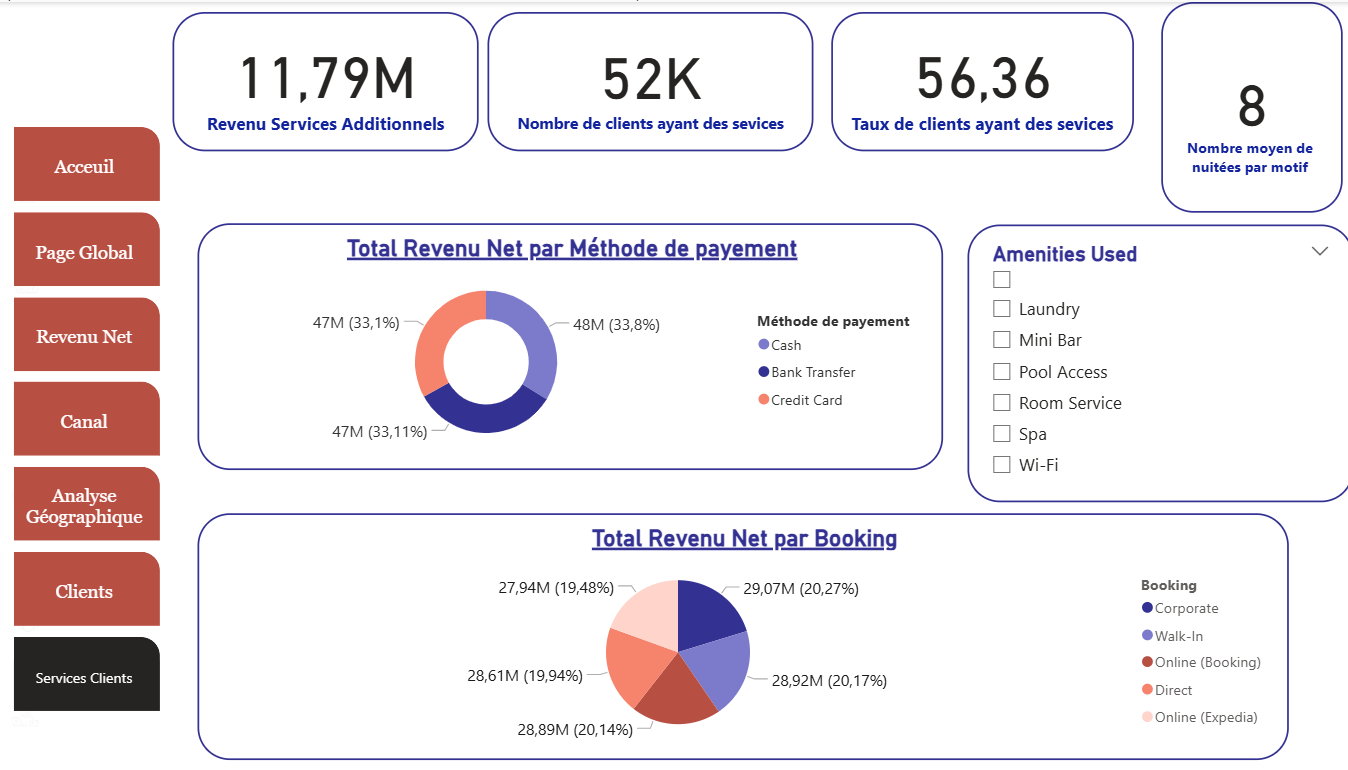

The dashboard page shown, as its layout file describes it:
{"tool":"powerbi","page":{"name":"Services Clients","canvas":[1280,720],"ordinal":6},"visuals":[{"type":"card","fields":{"Values":["Fact_Reservation.Average Nights by Stay Reason"]},"box":[1084.7,0,168.8,195.7],"z":0},{"type":"card","fields":{"Values":["Fact_Reservation.Revenu Services Additionnels"]},"box":[165.1,9.8,284.9,129.6],"z":1000},{"type":"card","fields":{"Values":["Fact_Reservation.Nb_Clients_Avec_Services"]},"box":[458.6,9.8,303.3,129.6],"z":2000},{"type":"card","fields":{"Values":["Fact_Reservation.Pct_Clients_Avec_Services_Cost"]},"box":[777.7,7.3,281.3,129.6],"z":3000},{"type":"pieChart","fields":{"Y":["Fact_Reservation.Total Revenu Net"],"Category":["Dim_BookingChannel.Booking Channel"]},"box":[188.3,475.7,1015,229.9],"z":4000},{"type":"donutChart","fields":{"Category":["Dim_PaymentMrthode.Payment Method"],"Y":["Fact_Reservation.Total Revenu Net"]},"box":[187.8,206.1,693.9,229.3],"z":5000},{"type":"slicer","fields":{"Values":["Fact_Reservation.Amenities Used"]},"box":[904.9,206.7,359.5,258],"z":6000},{"type":"image","box":[7.3,139.4,44,74.6],"z":7000},{"type":"image","box":[4.9,214,56.3,107.6],"z":8000},{"type":"image","box":[1.2,321.6,56.3,88],"z":9000},{"type":"image","box":[0,409.6,56.3,110.1],"z":10000},{"type":"image","box":[0,519.7,64.8,116.2],"z":11000},{"type":"image","box":[0,627.3,56.3,91.7],"z":12000},{"type":"pageNavigator","box":[17.1,116.2,137,549.1],"z":13000}]}

Visuals, with their boxes in screenshot pixels (x1, y1, x2, y2):
card - Fact_Reservation.Average Nights by Stay Reason: {"left": 1161, "top": 0, "right": 1343, "bottom": 207}
card - Fact_Reservation.Revenu Services Additionnels: {"left": 171, "top": 7, "right": 478, "bottom": 147}
card - Fact_Reservation.Nb_Clients_Avec_Services: {"left": 487, "top": 7, "right": 813, "bottom": 147}
card - Fact_Reservation.Pct_Clients_Avec_Services_Cost: {"left": 830, "top": 4, "right": 1133, "bottom": 144}
pieChart - Fact_Reservation.Total Revenu Net x Dim_BookingChannel.Booking Channel: {"left": 196, "top": 509, "right": 1289, "bottom": 756}
donutChart - Dim_PaymentMrthode.Payment Method x Fact_Reservation.Total Revenu Net: {"left": 195, "top": 218, "right": 942, "bottom": 465}
slicer - Fact_Reservation.Amenities Used: {"left": 967, "top": 219, "right": 1347, "bottom": 497}
image: {"left": 1, "top": 147, "right": 48, "bottom": 227}
image: {"left": 0, "top": 227, "right": 59, "bottom": 343}
image: {"left": 0, "top": 343, "right": 55, "bottom": 438}
image: {"left": 0, "top": 438, "right": 54, "bottom": 556}
image: {"left": 0, "top": 556, "right": 63, "bottom": 681}
image: {"left": 0, "top": 672, "right": 54, "bottom": 769}
pageNavigator: {"left": 11, "top": 122, "right": 159, "bottom": 713}
